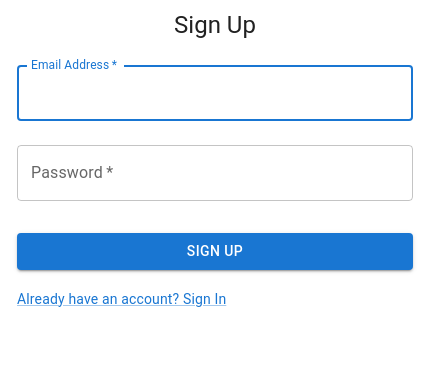
Scenario: SignUp Page › displays error message on failed registration
This screenshot has width=431, height=388.
Type "existing@example.com" into the field labelled "Email Address *".
click(215, 93); type("existing@example.com")  # box [17, 65, 413, 121]
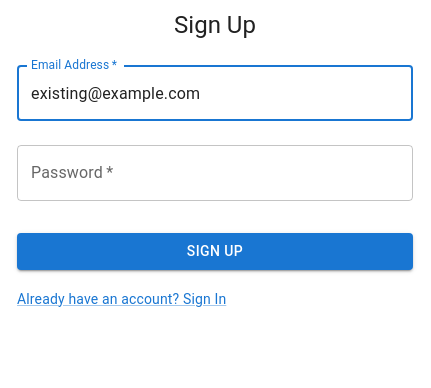
Type "password123" into the password field labelled "Password *".
click(215, 173); type("password123")  # box [17, 145, 413, 201]
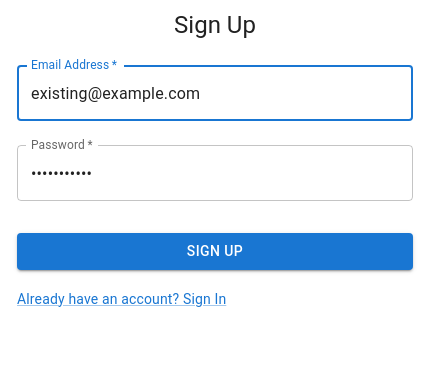
Click the button "Sign Up".
click(215, 251)  # box [17, 233, 413, 270]
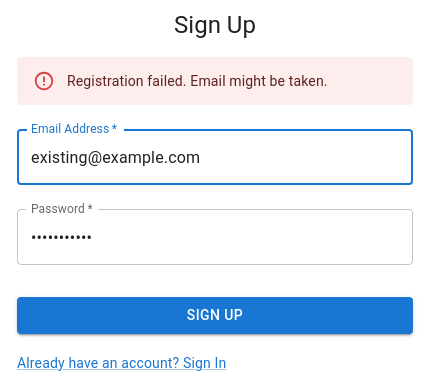
Now the text "Registration failed. Email might be taken." is shown, box [67, 73, 328, 89]
